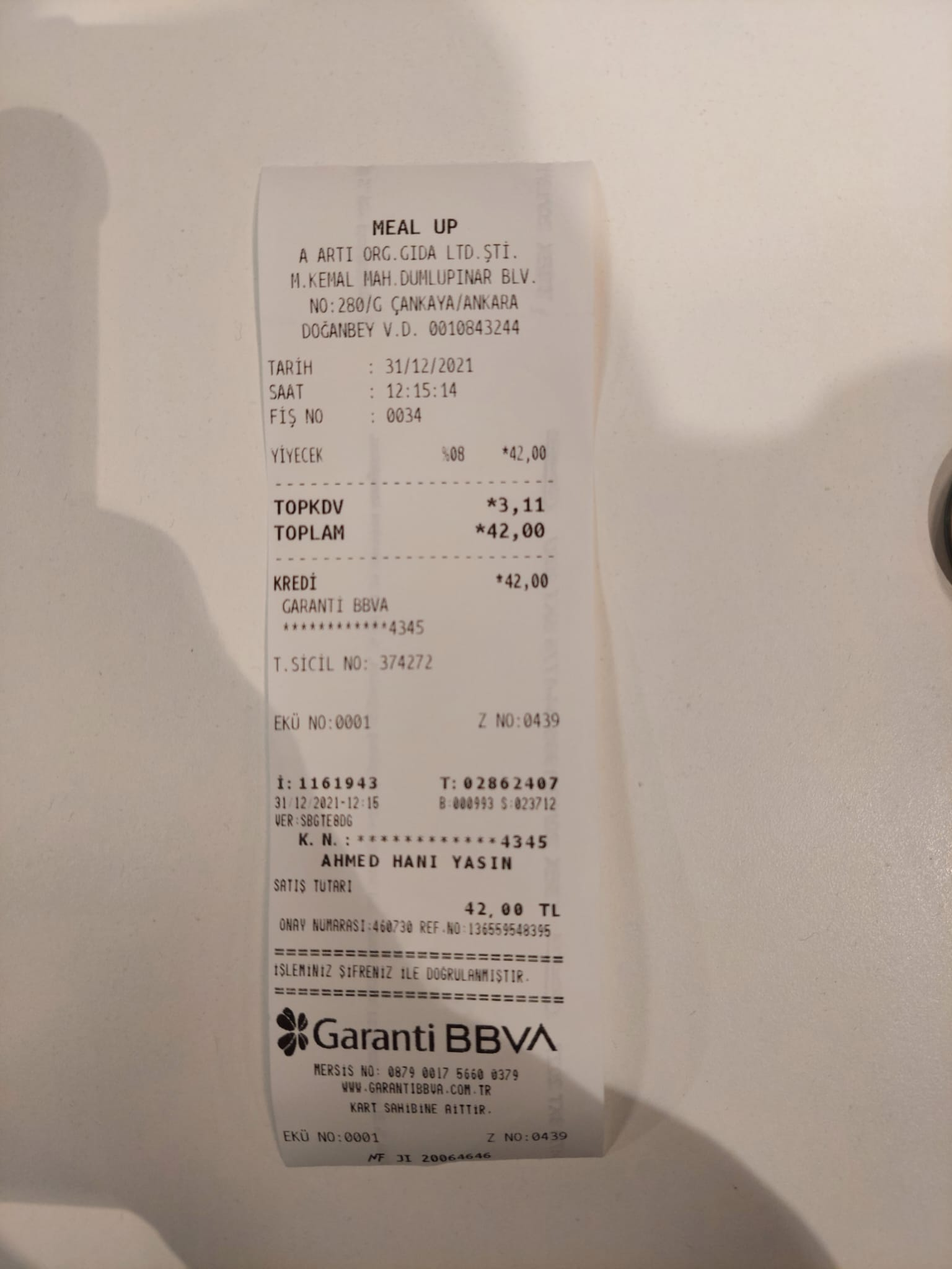date: (486, 519, 555, 546)
price: (377, 350, 481, 379)
workplace: (277, 207, 556, 322)
